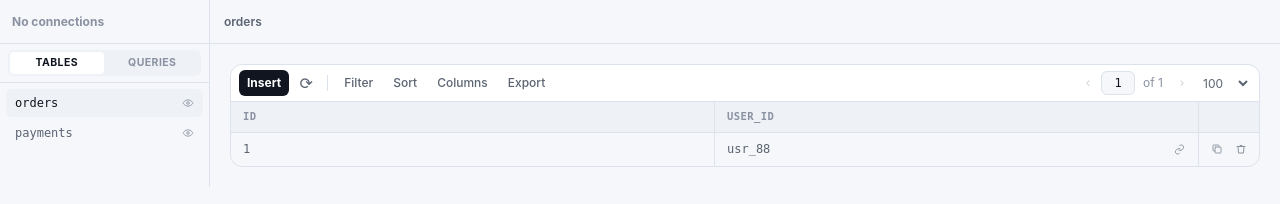
Scenario: DbTab › shows no link icon for a table switched to while its own metadata is still loading
This screenshot has width=1280, height=204.
Check: the button named "public.users.id" is shown, box [1173, 143, 1186, 156]
Click the button with aria-label "Browse public.payments" at [94, 133], box [15, 125, 174, 141]
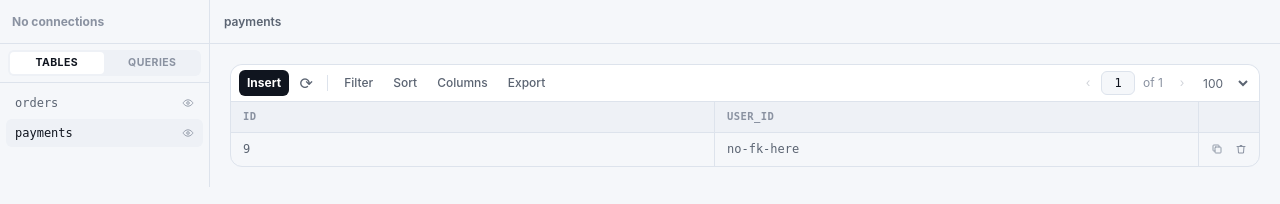
Check: the text "no-fk-here" is shown, box [727, 142, 799, 156]
